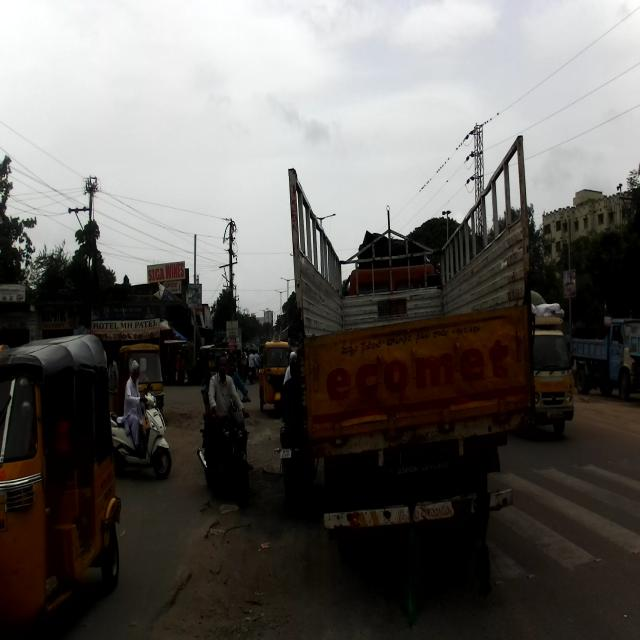autorickshaw: (1, 333, 122, 639), (105, 343, 165, 423)
motorcycle_Hero: (275, 419, 316, 512)
motorcycle_bajaj: (196, 407, 250, 506)
scooter: (108, 382, 172, 480)
truck: (287, 136, 534, 625), (522, 289, 579, 448)
